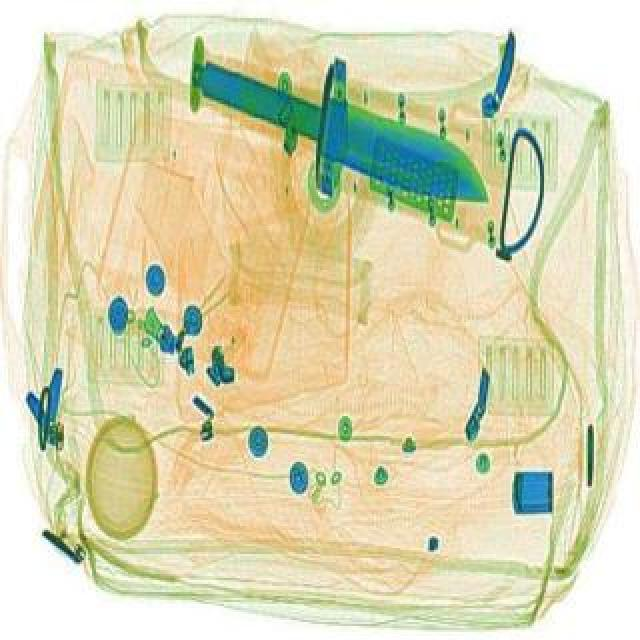knife: (156, 0, 536, 256)
